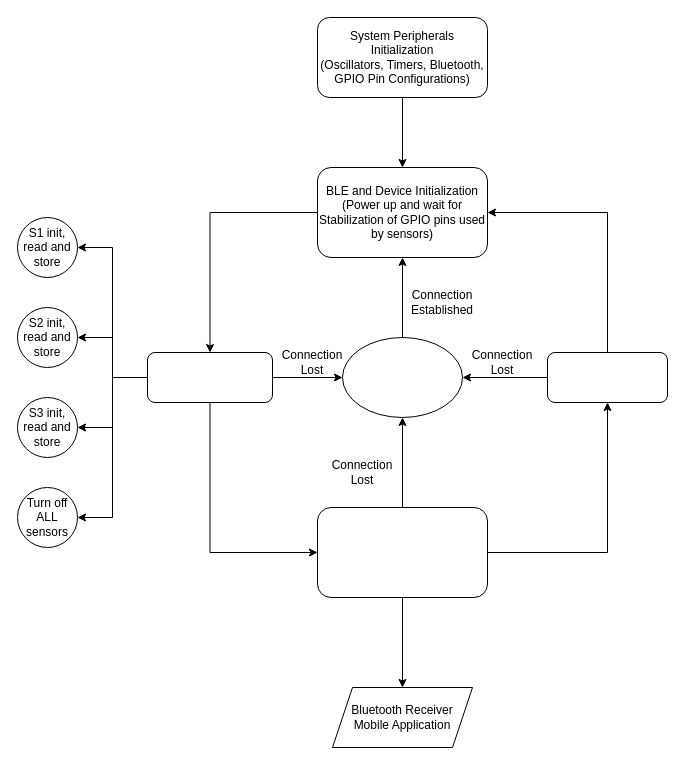
This 685x765 diagram has some shape labels left out. Here are the shapes that lost their labels. From the top down, the centre of each, then its label:
At point 209,377: "Sensor Read/Write".
At point 402,377: "IDLE (Wait for Connection)".
At point 607,377: "Sleep until next 10 second Interrupt".
At point 402,552: "Transmit Updated Packet Structure (BLE Sequence)".
